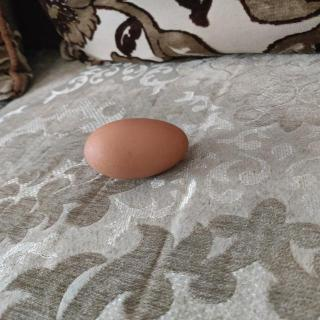Telur: (81, 118, 191, 182)
